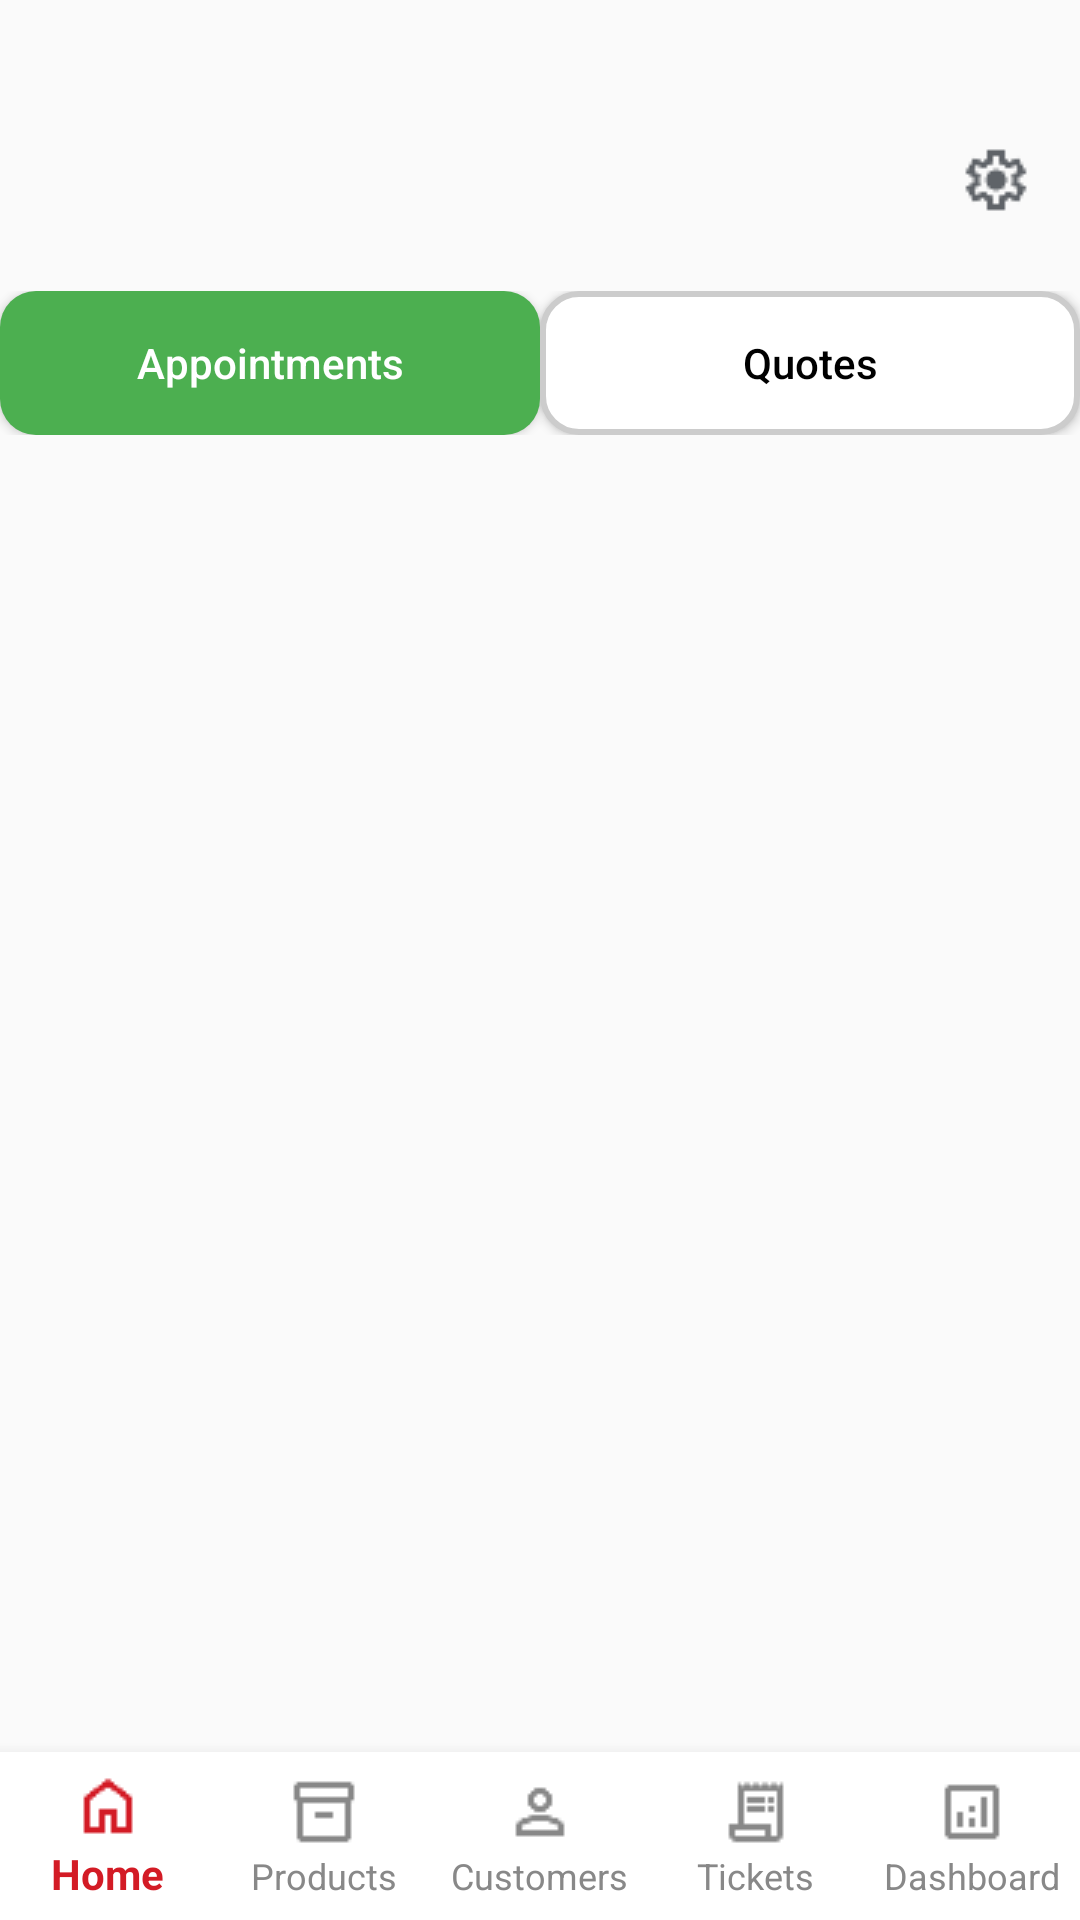

Screen size 1080 × 1920. Icon name, then its center in pixels as (x=x, y=y):
Settings: (x=996, y=180)
